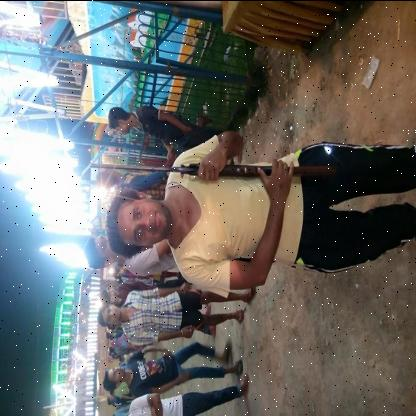rifle: (88, 158, 340, 181)
